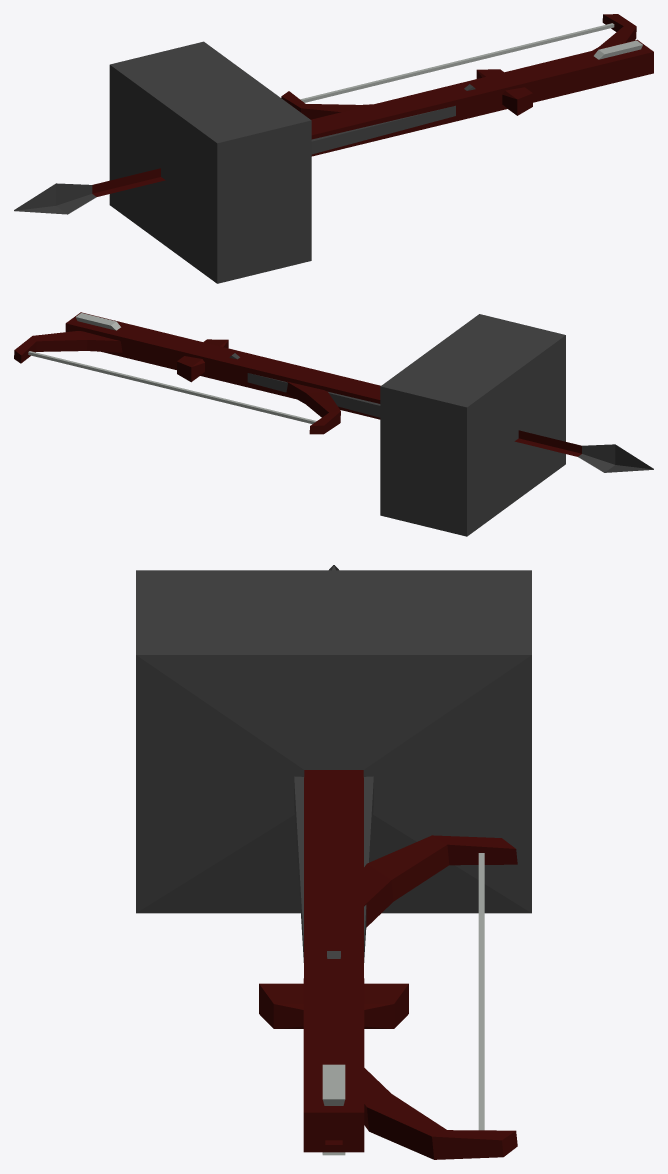
Rendered from weapons.fbx.
3 renders of one model, top to bottom at view 1: azimuth 30°, elevation 25°; view 2: azimuth 150°, elevation 25°; view 3: azimuth 270°, elevation 25°, orthographic. The views are drawn at different scales.
Visible parts, largest first — view 1: Hammer, Bow, Sword, Spear, Arrow; view 2: Hammer, Bow, Spear, Sword, Arrow; view 3: Hammer, Bow, Sword, Arrow.
Boxes of the visible parts, x1,y1,x2,y2 form: Hammer: [109, 39, 653, 283]; Bow: [281, 14, 636, 119]; Sword: [311, 69, 532, 154]; Spear: [14, 168, 165, 214]; Arrow: [464, 40, 642, 90]; Hammer: [65, 312, 565, 536]; Bow: [14, 331, 340, 434]; Spear: [514, 430, 653, 472]; Sword: [177, 339, 380, 417]; Arrow: [75, 313, 239, 359]; Hammer: [136, 570, 531, 1152]; Bow: [364, 835, 517, 1159]; Sword: [259, 776, 408, 1028]; Arrow: [322, 951, 345, 1155].
Size of the model in its own units: 3.37 by 0.6962 by 0.9668.
